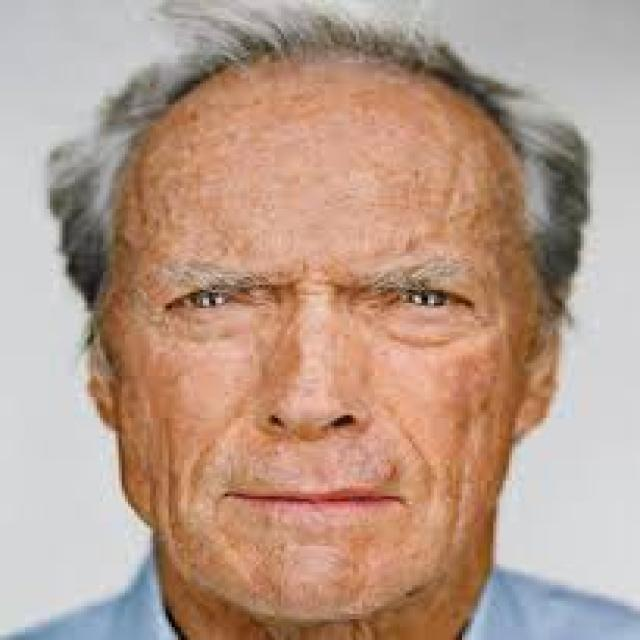normal_face: (97, 51, 553, 621)
